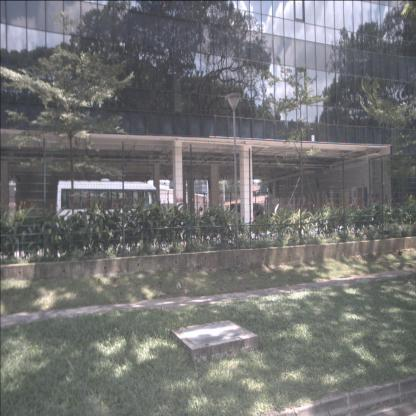vehicle-bus-rigid: (57, 181, 160, 240)
vehicle-car: (230, 203, 263, 225)
